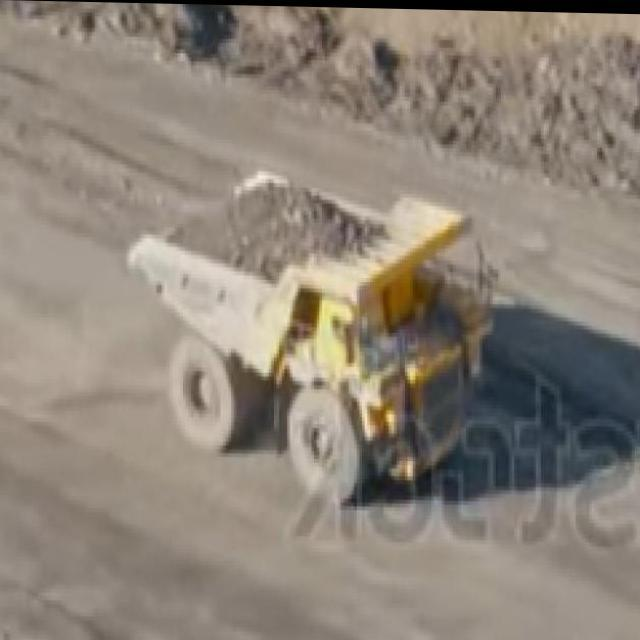uncovered: (156, 160, 450, 514)
